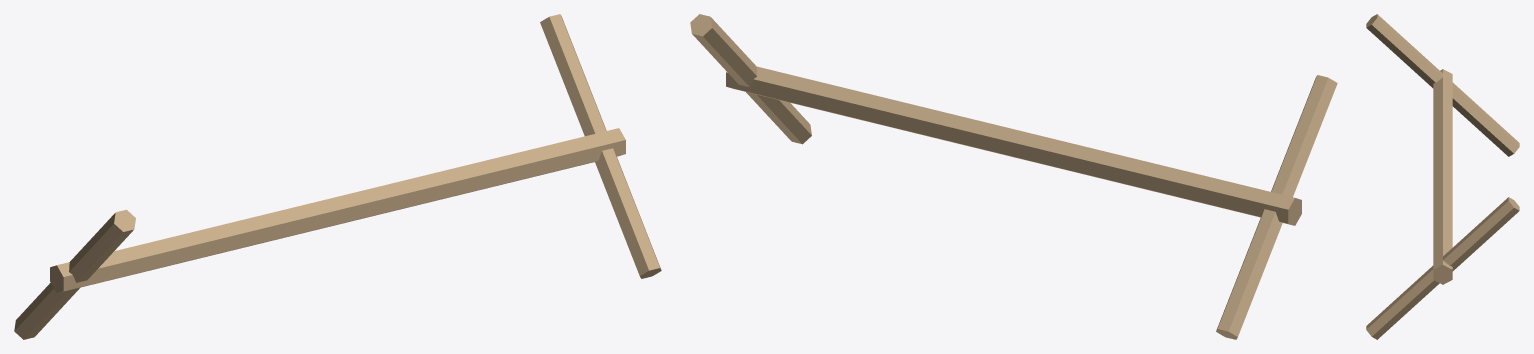
File: prop-niddy-noddy.fbx
3 renders of one model, left to right at view 1: azimuth 30°, elevation 25°; view 2: azimuth 150°, elevation 25°; view 3: azimuth 270°, elevation 25°, orthographic. The views are drawn at different scales.
Parts seen in each view (by area): view 1: prop-niddy-noddy; view 2: prop-niddy-noddy; view 3: prop-niddy-noddy.
Part boxes in pixels (x1,y1,x2,y2): prop-niddy-noddy: (14, 14, 661, 339); prop-niddy-noddy: (690, 14, 1337, 339); prop-niddy-noddy: (1366, 14, 1519, 339).
Size of the model in its own units: 46 by 15.24 by 15.24.
